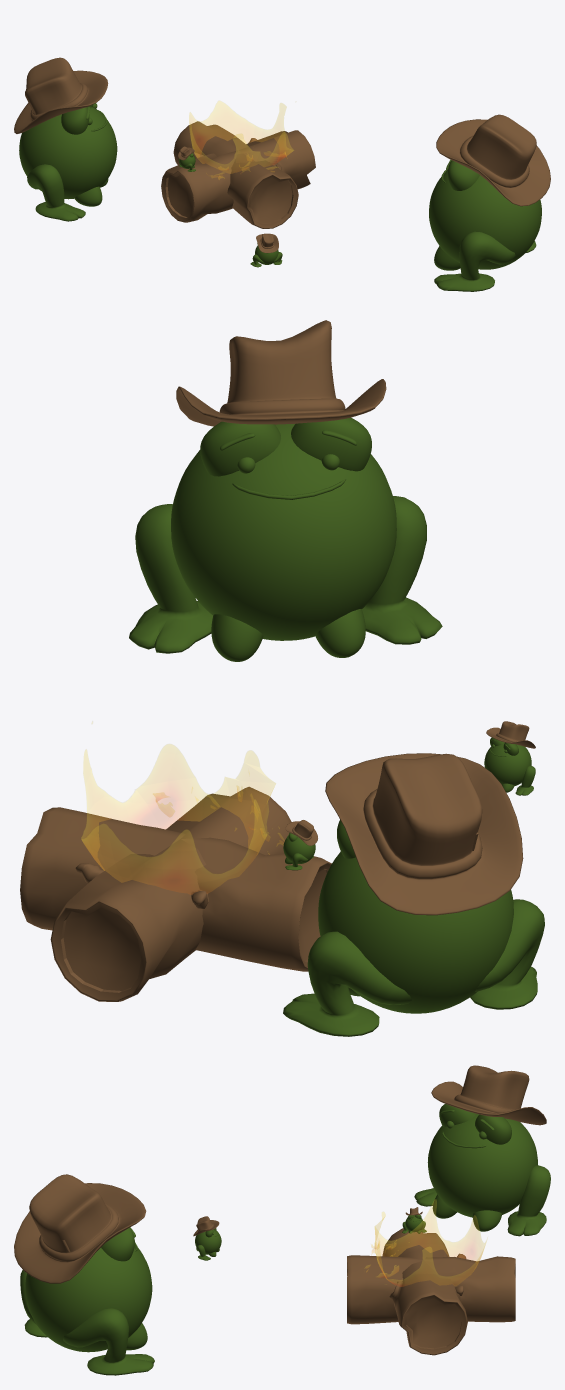
File: Fire-C.glb
The picture shows the model from 3 angles, top to bottom: view 1: azimuth 30°, elevation 25°; view 2: azimuth 150°, elevation 25°; view 3: azimuth 270°, elevation 25°; orthographic projection. The views are drawn at different scales.
Parts seen in each view (by area): view 1: frog_boi (×3), log_boi (×2), hat_boi (×3), Large Fire; view 2: frog_boi (×3), log_boi (×2), hat_boi (×2), Large Fire; view 3: frog_boi (×3), log_boi (×2), hat_boi (×2), Large Fire.
Boxes of the visible parts, x1,y1,x2,y2 form: frog_boi (×3): (19,103,541,291); log_boi (×2): (161,121,315,228); hat_boi (×3): (14,57,550,253); Large Fire: (189,101,293,173); frog_boi (×3): (129,417,544,1036); log_boi (×2): (20,786,331,1001); hat_boi (×2): (176,320,523,915); Large Fire: (81,722,275,894); frog_boi (×3): (20,1104,550,1375); log_boi (×2): (347,1228,515,1355); hat_boi (×2): (14,1065,546,1283); Large Fire: (375,1199,486,1286).
Size of the model in its own units: 8.18 by 4.28 by 9.59.
3 materials, 1 textured.
